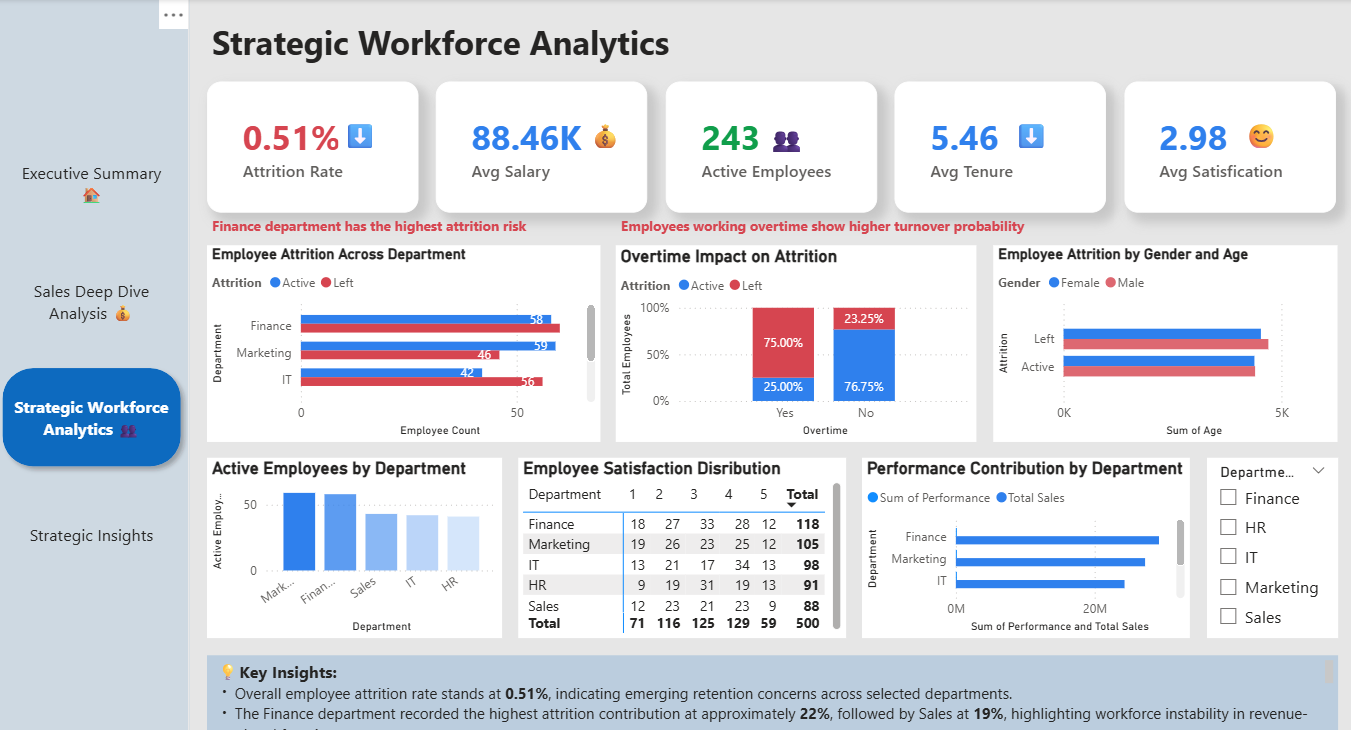

The dashboard page shown, as its layout file describes it:
{"tool":"powerbi","page":{"name":"Strategic Workforce Analytics 👥","canvas":[1343,720],"ordinal":2},"visuals":[{"type":"group","id":"g1","title":"Group 1","box":[16,0,192,720],"z":0},{"type":"shape","box":[16,0,192,720],"z":0,"group":"g1"},{"type":"cardVisual","fields":{"Data":["HR_Data.Attrition Rate"]},"box":[224,80,206,128],"z":1000},{"type":"cardVisual","fields":{"Data":["HR_Data.avg Salary"]},"box":[448,80,206,128],"z":2000},{"type":"cardVisual","fields":{"Data":["Sales_Data.Active Employees"]},"box":[672,80,206,128],"z":3000},{"type":"cardVisual","fields":{"Data":["HR_Data.Avg Tenure"]},"box":[896,80,206,128],"z":4000},{"type":"cardVisual","fields":{"Data":["Avg(HR_Data.Satisfication Score)"]},"box":[1120,80,206,128],"z":5000},{"type":"clusteredBarChart","title":"Employee Attrition Across Department","fields":{"Category":["HR_Data.Department"],"Series":["HR_Data.Attrition"],"Y":["HR_Data.Employee Count"]},"box":[224,240,384,192],"z":6000},{"type":"columnChart","title":"Active Employees by Department","fields":{"Category":["HR_Data.Department"],"Y":["Sales_Data.Active Employees"]},"box":[224,448,288,176],"z":7000},{"type":"clusteredBarChart","title":"Employee Attrition by Gender and Age","fields":{"Category":["HR_Data.Attrition"],"Y":["Sum(HR_Data.Age)"],"Series":["HR_Data.Gender"]},"box":[992,240,336,192],"z":8000},{"type":"pivotTable","title":"Employee Satisfaction Disribution","fields":{"Rows":["HR_Data.Department"],"Values":["HR_Data.Total Employees"],"Columns":["HR_Data.Satisfication Score"]},"box":[528,448,320,176],"z":9000},{"type":"hundredPercentStackedColumnChart","title":"Overtime Impact on Attrition","fields":{"Category":["HR_Data.Overtime"],"Y":["HR_Data.Total Employees"],"Series":["HR_Data.Attrition"]},"box":[624,240,352,192],"z":10000},{"type":"clusteredBarChart","title":"Performance Contribution by Department","fields":{"Y":["Sum(HR_Data.Performance)","Sales_Data.Total Sales"],"Category":["HR_Data.Department"]},"box":[864,448,320,176],"z":11000},{"type":"textbox","box":[352,112,48,48],"z":12000},{"type":"textbox","box":[592,112,48,48],"z":13000},{"type":"textbox","box":[768,112,64,48],"z":14000},{"type":"textbox","box":[1008,112,48,48],"z":15000},{"type":"textbox","box":[1232,112,48,48],"z":16000},{"type":"textbox","box":[224,640,1104,80],"z":17000},{"type":"textbox","box":[224,16,512,64],"z":18000},{"type":"pageNavigator","box":[16,122.9,192,456.6],"z":18500,"group":"g1"},{"type":"textbox","box":[224,208,384,32],"z":19000},{"type":"textbox","box":[624,208,416,32],"z":20000},{"type":"slicer","fields":{"Values":["HR_Data.Department"]},"box":[1200,448,128,176],"z":21000}]}

Visuals, with their boxes on the page's 1343x720 design canvas (x1, y1, x2, y2). These are canvas units, not pixel positions in the 1351x730 screenshot, which may show the page scaled, cropped or inside an application window:
"Group 1" group: region(16, 0, 208, 720)
shape: region(16, 0, 208, 720)
cardVisual - HR_Data.Attrition Rate: region(224, 80, 430, 208)
cardVisual - HR_Data.avg Salary: region(448, 80, 654, 208)
cardVisual - Sales_Data.Active Employees: region(672, 80, 878, 208)
cardVisual - HR_Data.Avg Tenure: region(896, 80, 1102, 208)
cardVisual - Avg(HR_Data.Satisfication Score): region(1120, 80, 1326, 208)
"Employee Attrition Across Department" clusteredBarChart: region(224, 240, 608, 432)
"Active Employees by Department" columnChart: region(224, 448, 512, 624)
"Employee Attrition by Gender and Age" clusteredBarChart: region(992, 240, 1328, 432)
"Employee Satisfaction Disribution" pivotTable: region(528, 448, 848, 624)
"Overtime Impact on Attrition" hundredPercentStackedColumnChart: region(624, 240, 976, 432)
"Performance Contribution by Department" clusteredBarChart: region(864, 448, 1184, 624)
textbox: region(352, 112, 400, 160)
textbox: region(592, 112, 640, 160)
textbox: region(768, 112, 832, 160)
textbox: region(1008, 112, 1056, 160)
textbox: region(1232, 112, 1280, 160)
textbox: region(224, 640, 1328, 720)
textbox: region(224, 16, 736, 80)
pageNavigator: region(16, 123, 208, 580)
textbox: region(224, 208, 608, 240)
textbox: region(624, 208, 1040, 240)
slicer - HR_Data.Department: region(1200, 448, 1328, 624)
